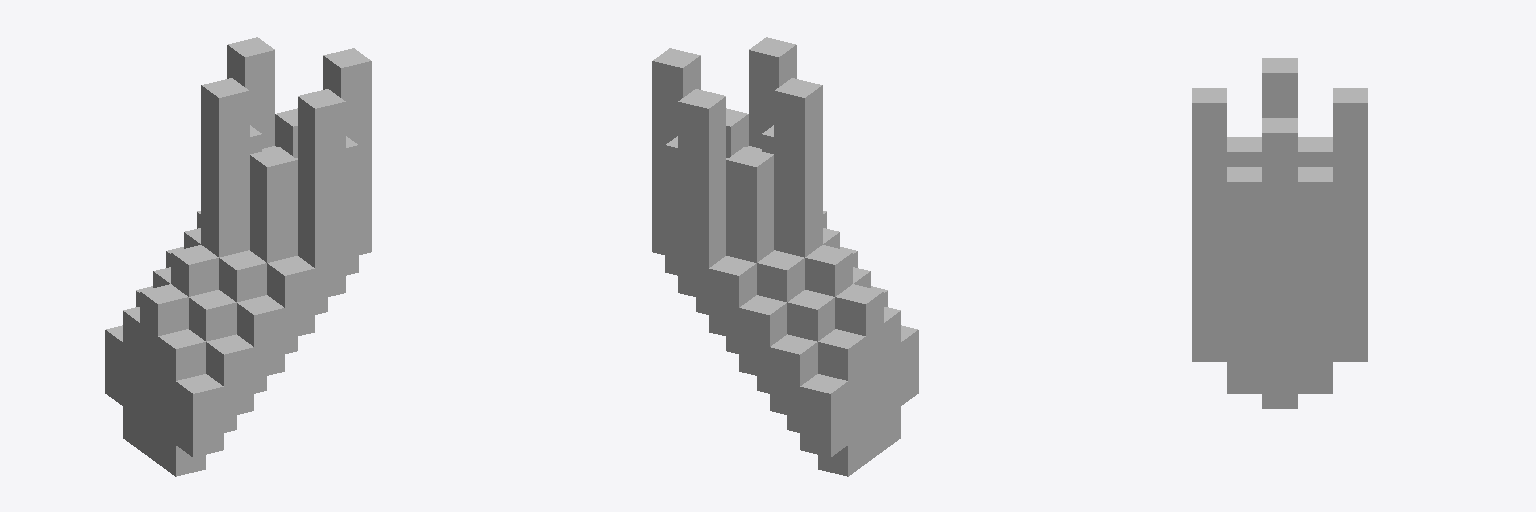
Rendered from Antorcha.obj.
The picture shows the model from 3 angles: view 1: azimuth 30°, elevation 25°; view 2: azimuth 150°, elevation 25°; view 3: azimuth 270°, elevation 25°; orthographic projection.
Visible parts, largest first — view 1: object 1; view 2: object 1; view 3: object 1.
Boxes of the visible parts, box(x1,y1,x2,y2) form: object 1: box(105, 37, 371, 476); object 1: box(652, 37, 918, 476); object 1: box(1192, 58, 1367, 408).
Size of the model in its own units: 0.7 by 1.1 by 0.5.